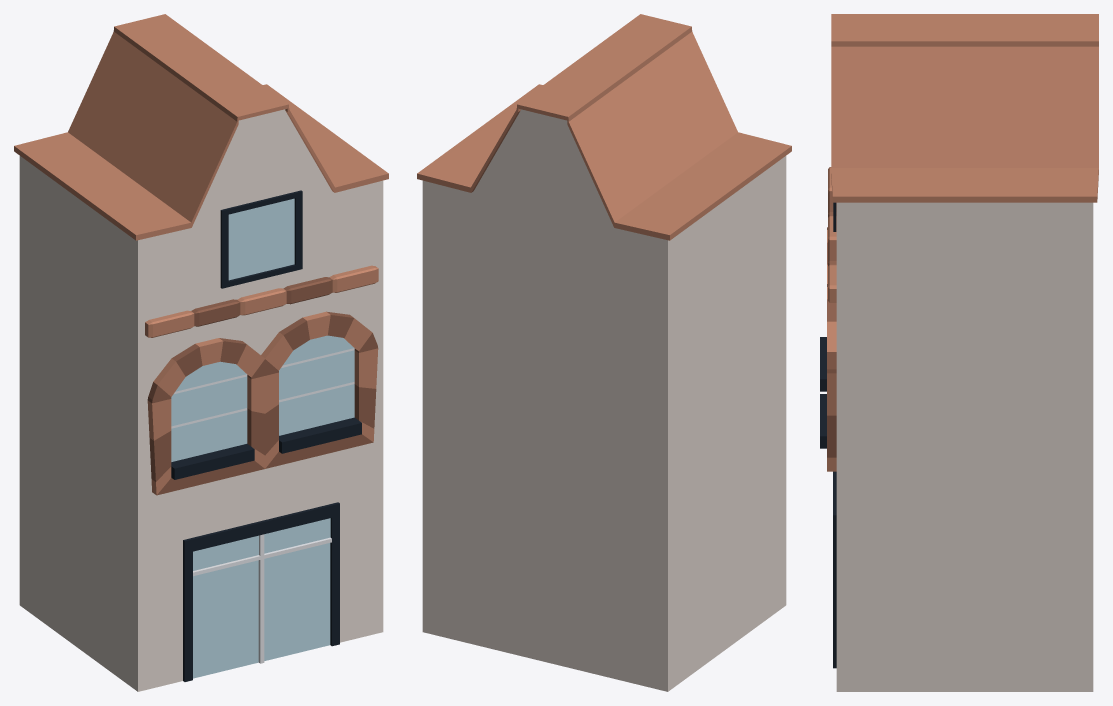
The model's file is House2Level1.fbx.
3 renders of one model, left to right at view 1: azimuth 30°, elevation 25°; view 2: azimuth 150°, elevation 25°; view 3: azimuth 270°, elevation 25°, orthographic. The views are drawn at different scales.
Visible parts, largest first — view 1: House2Lvl1.001; view 2: House2Lvl1.001; view 3: House2Lvl1.001.
Part boxes in pixels (<box>): House2Lvl1.001: <box>14,14,388,691</box>; House2Lvl1.001: <box>417,14,791,691</box>; House2Lvl1.001: <box>820,14,1098,691</box>.
Size of the model in its own units: 62.79 by 131 by 55.35.
